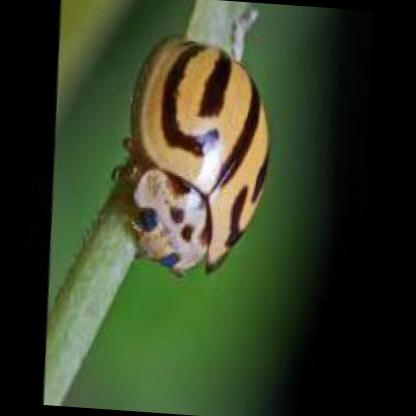uroleucon compositae: (123, 35, 269, 279)
